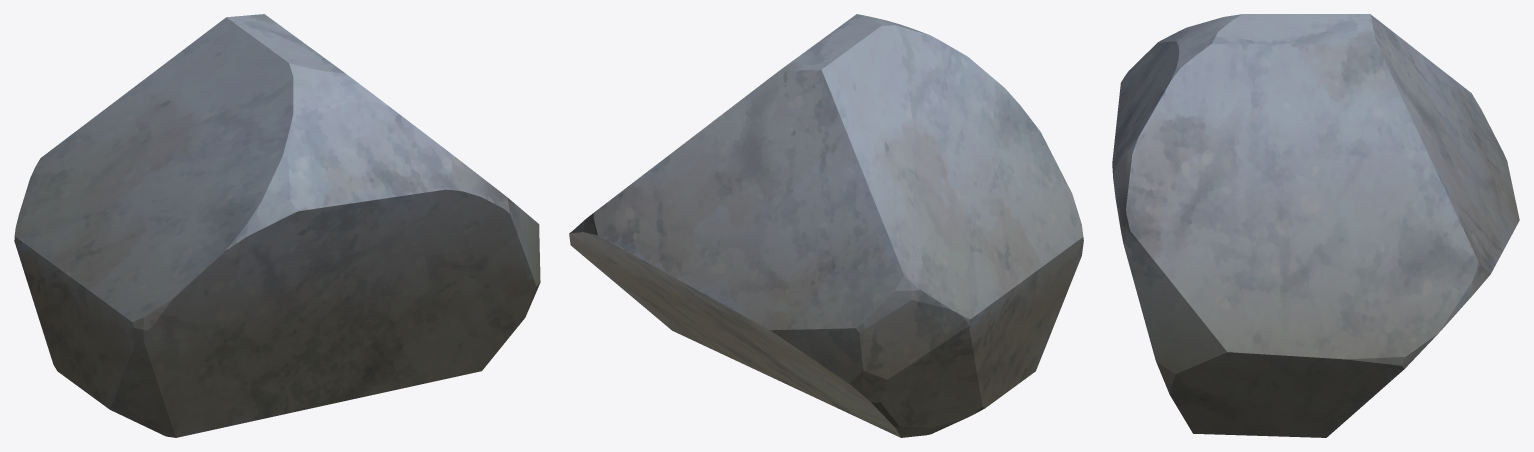
Rendered from Rock_2.fbx.
3 views of the same model, side by side, from view 1: azimuth 30°, elevation 25°; view 2: azimuth 150°, elevation 25°; view 3: azimuth 270°, elevation 25° (orthographic). The views are drawn at different scales.
Parts seen in each view (by area): view 1: Rock_2_Low; view 2: Rock_2_Low; view 3: Rock_2_Low.
Part boxes in pixels (x1=…): Rock_2_Low: x1=14, y1=14, x2=540, y2=437; Rock_2_Low: x1=569, y1=14, x2=1083, y2=437; Rock_2_Low: x1=1112, y1=14, x2=1519, y2=437.
Bounding box in the file's own units: 2.14 × 1.6 × 1.73.
